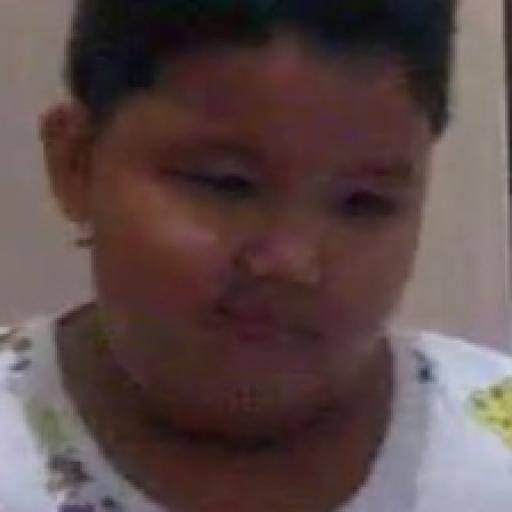Autism: (31, 4, 511, 512)
